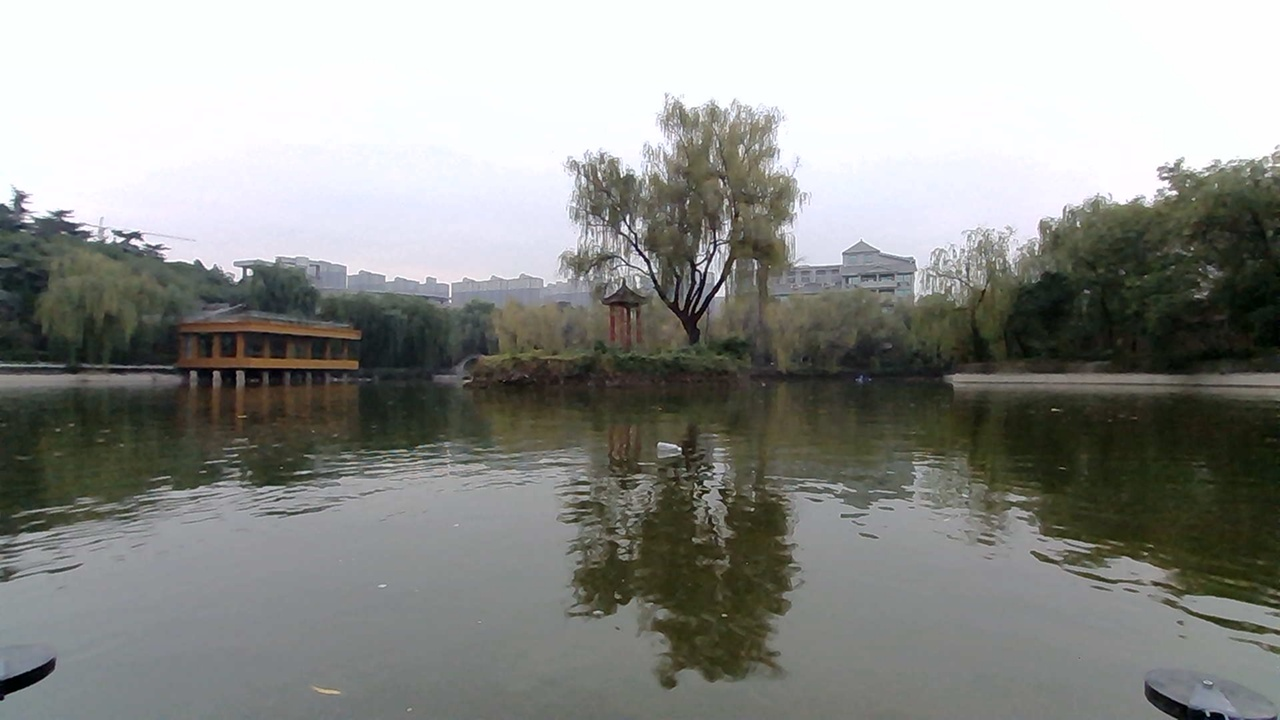bottle: (639, 427, 703, 460)
